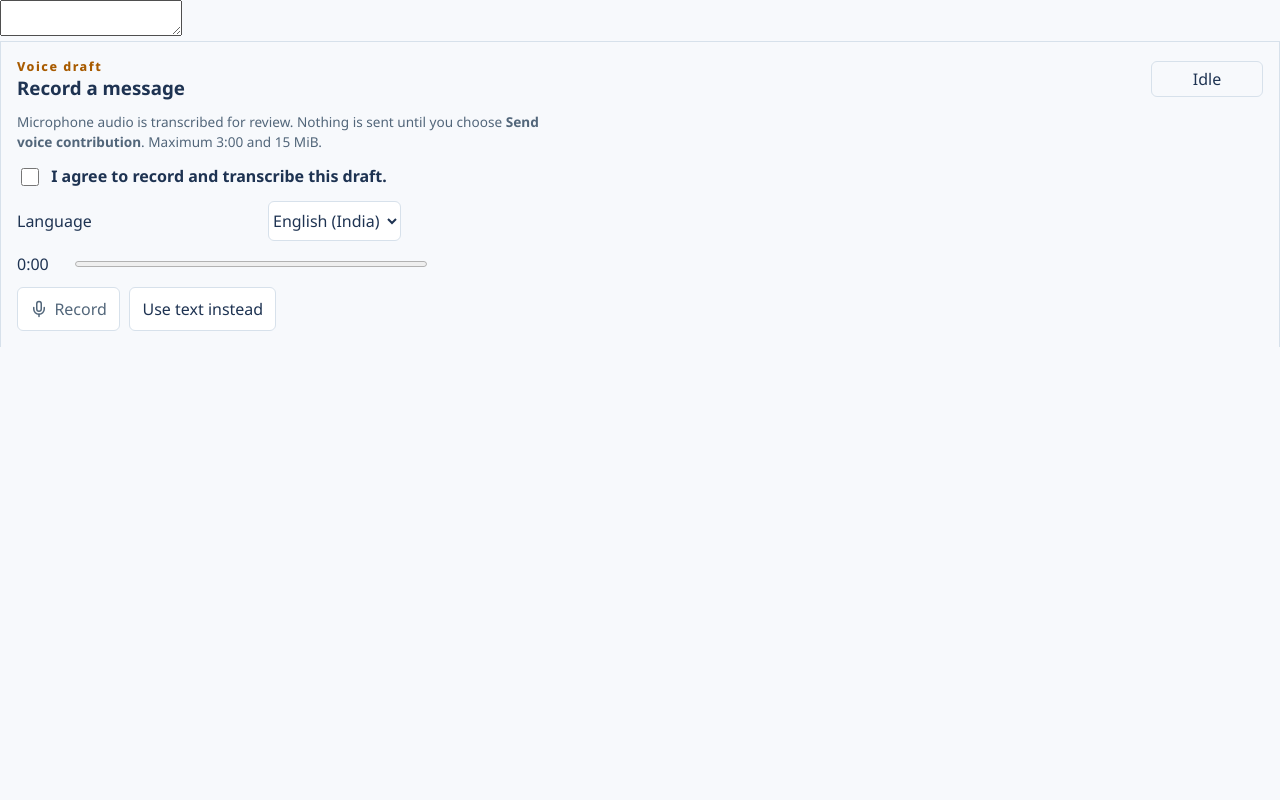
Test: keeps low-confidence send disabled when correction fails
Click the checkbox: point(30, 177) [21, 168, 39, 186]
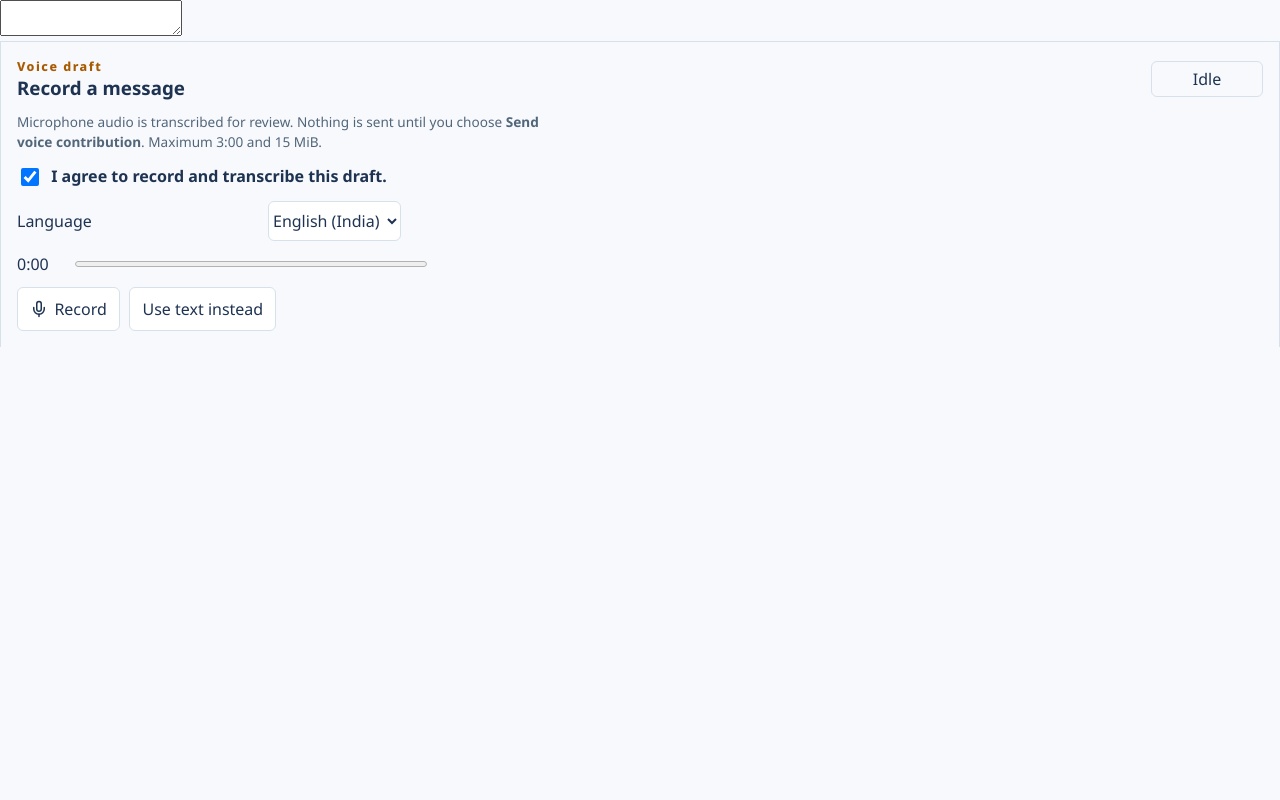
Click the button "Record": point(68, 309) [17, 287, 120, 331]
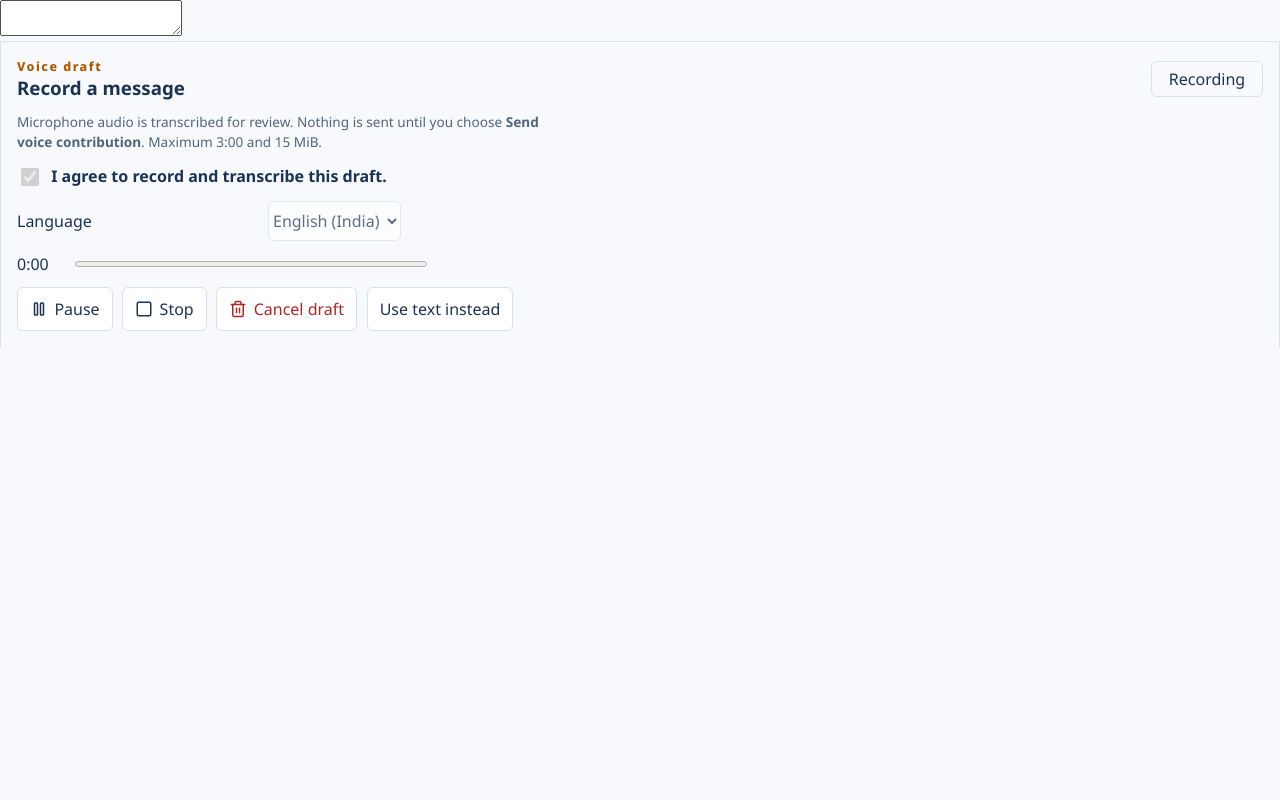
Result: the button "Stop" is shown
Click the button "Stop": point(164, 309) [122, 287, 207, 331]
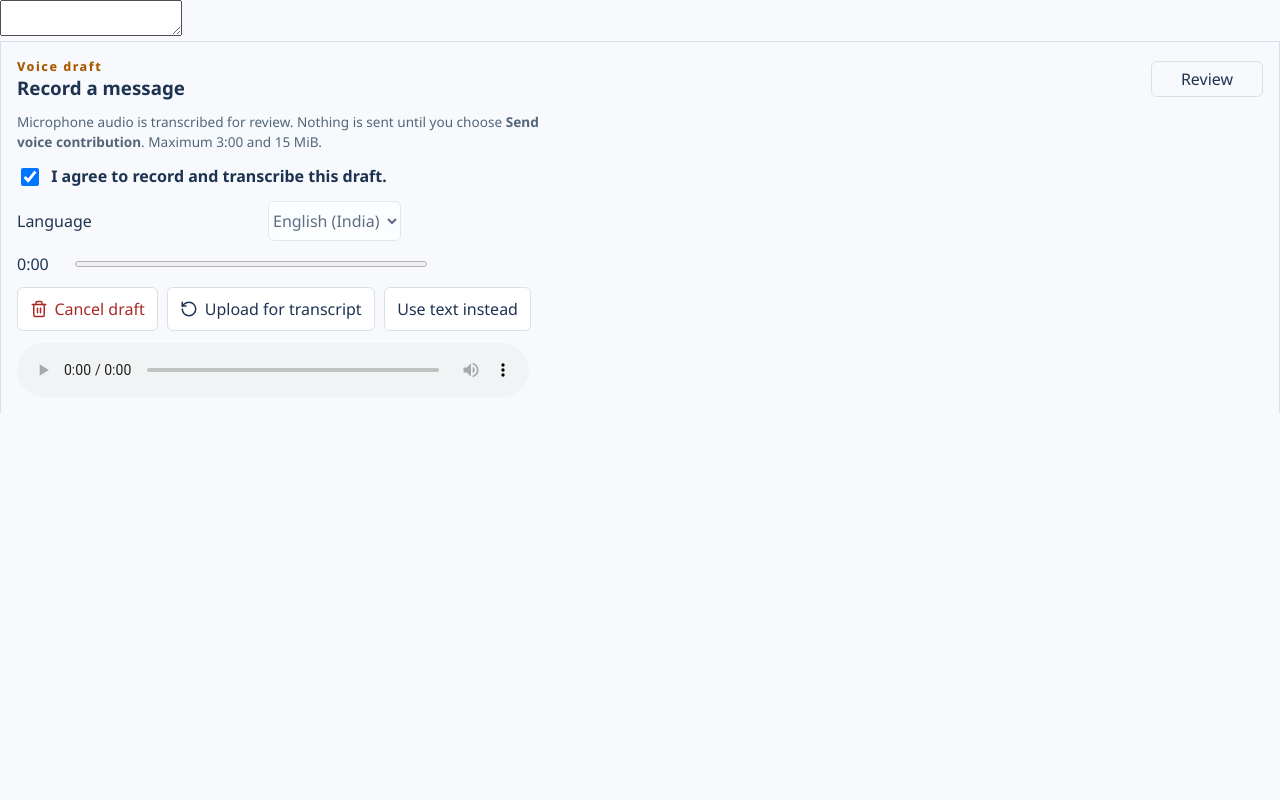
Result: the button "Upload for transcript" is shown
Click the button "Upload for transcript": point(271, 309) [167, 287, 375, 331]
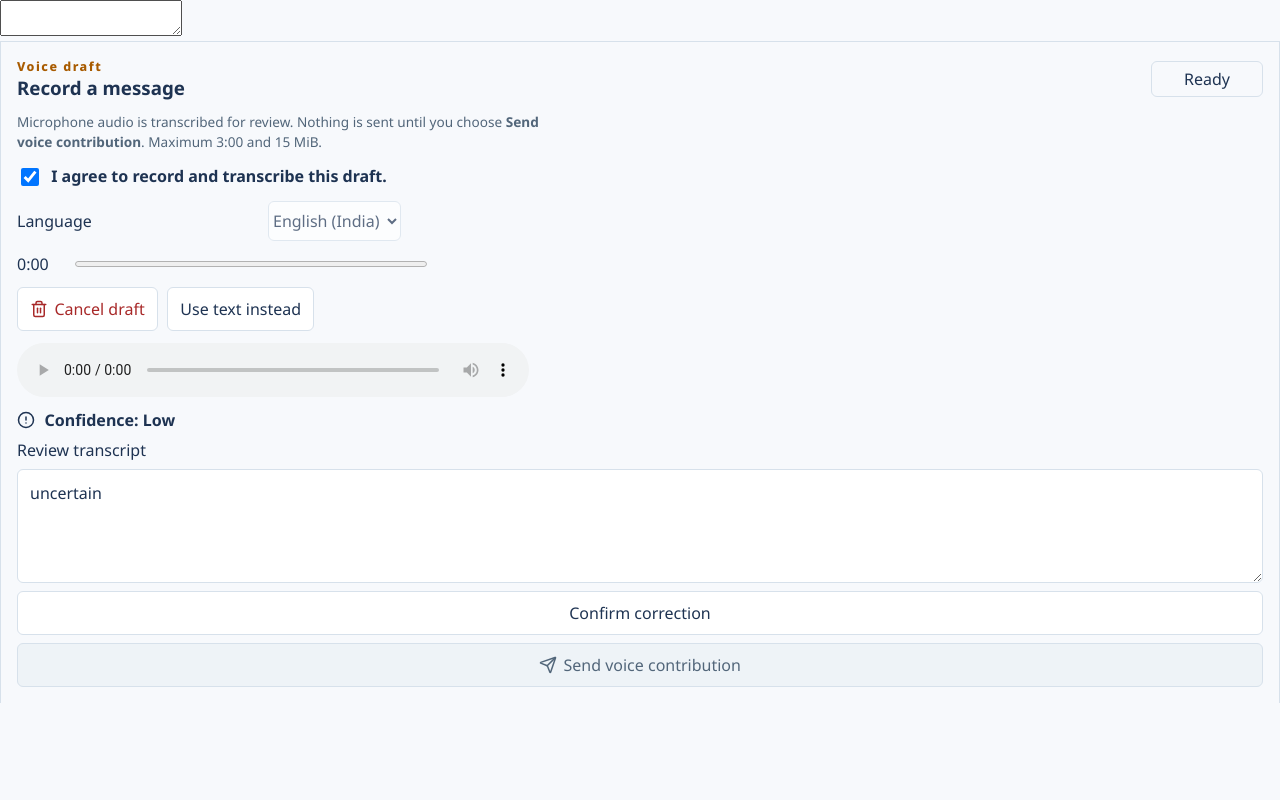
Click the button "Confirm correction": point(640, 613) [17, 591, 1263, 635]
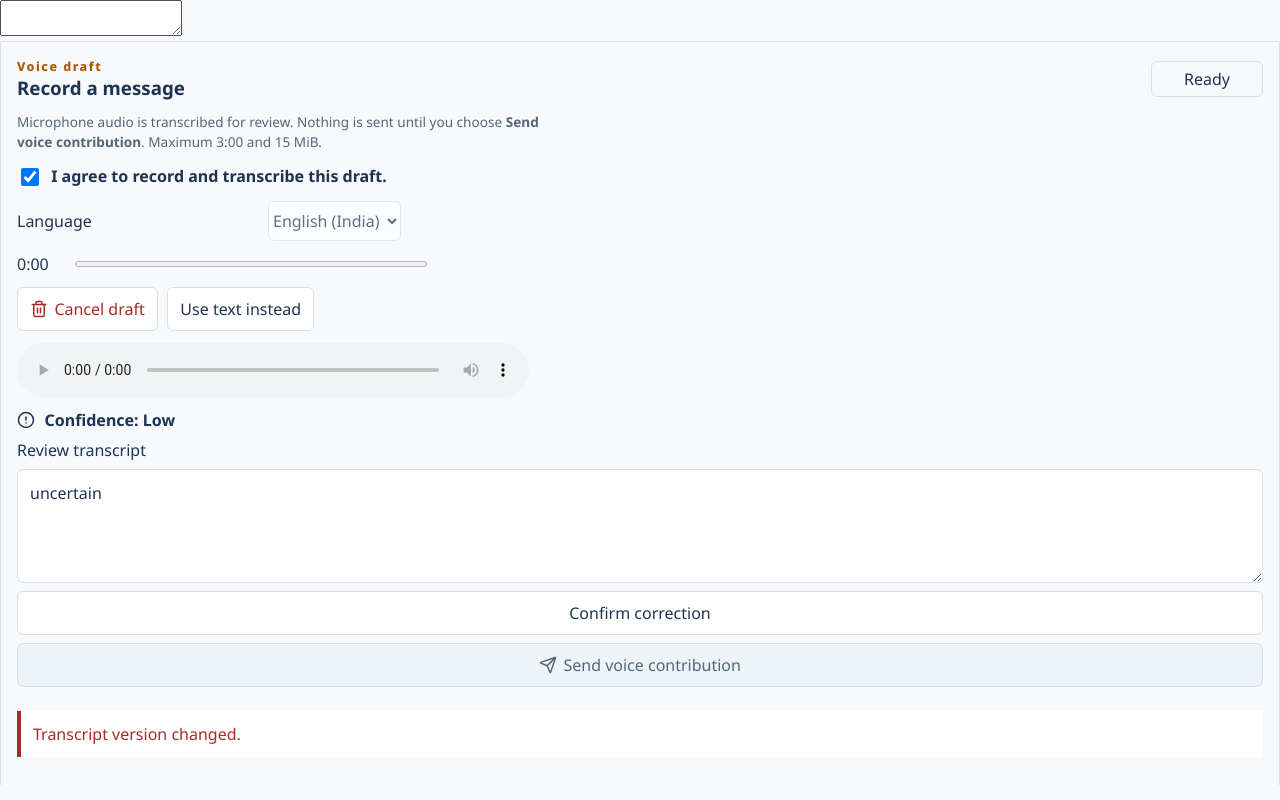
Result: the button "Send voice contribution" is disabled at [17, 643, 1263, 687]
Result: the text "Transcript version changed." is shown at [17, 711, 1263, 757]
